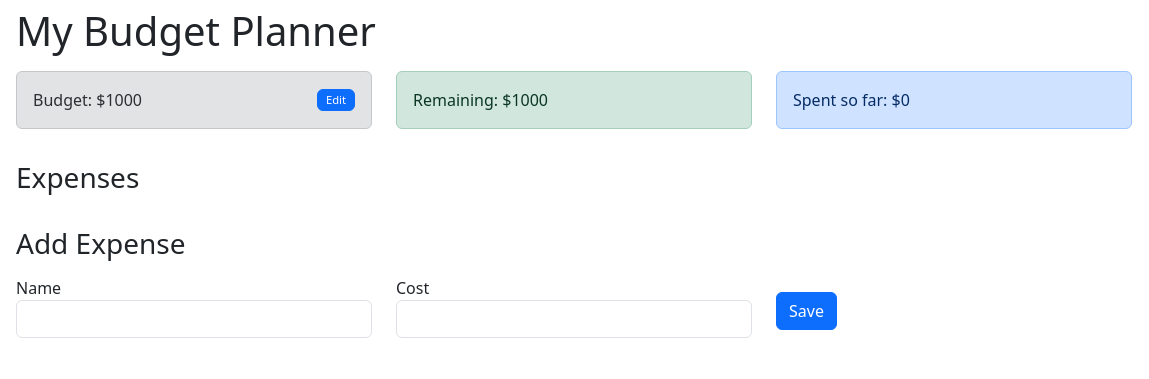
Test: Budget Button › Budget Button Edit
Click the button "Edit": click(336, 100) [317,89,355,111]
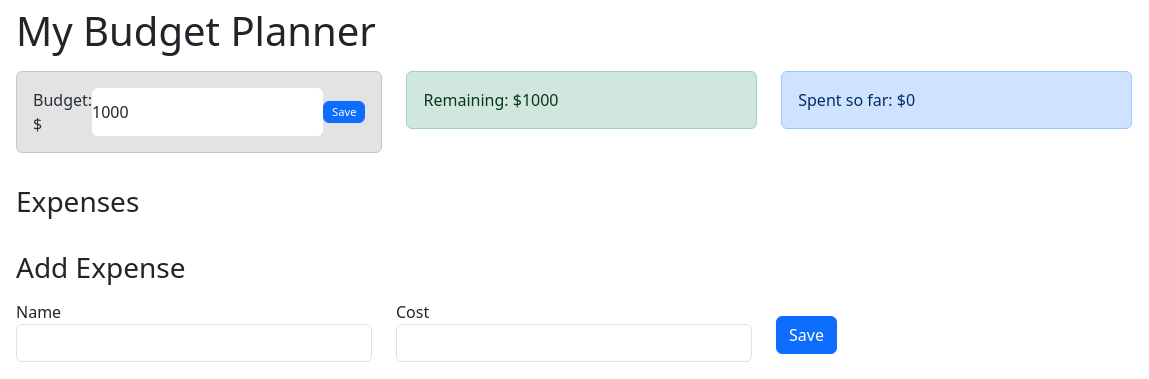
Replace the text in the number field with "500": (208, 112) [92,88,323,136]
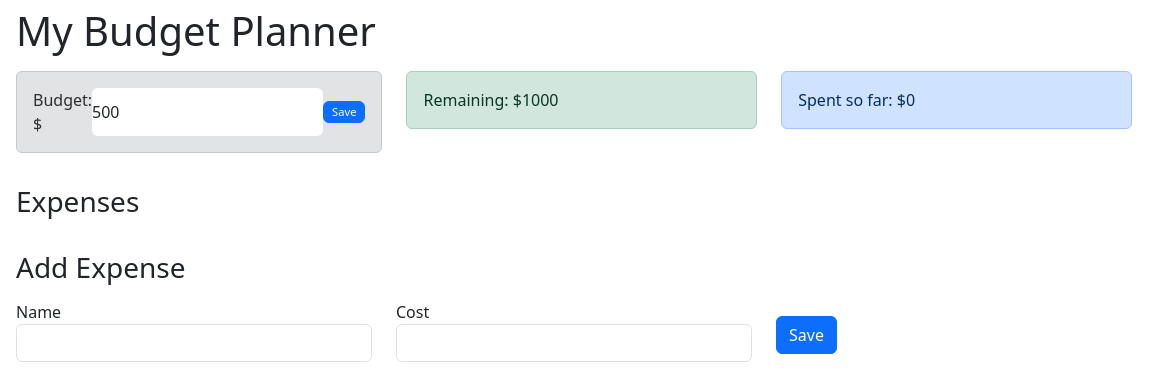
Click the button "Save" in the row of "Budget: $": click(344, 112) [323,101,366,123]
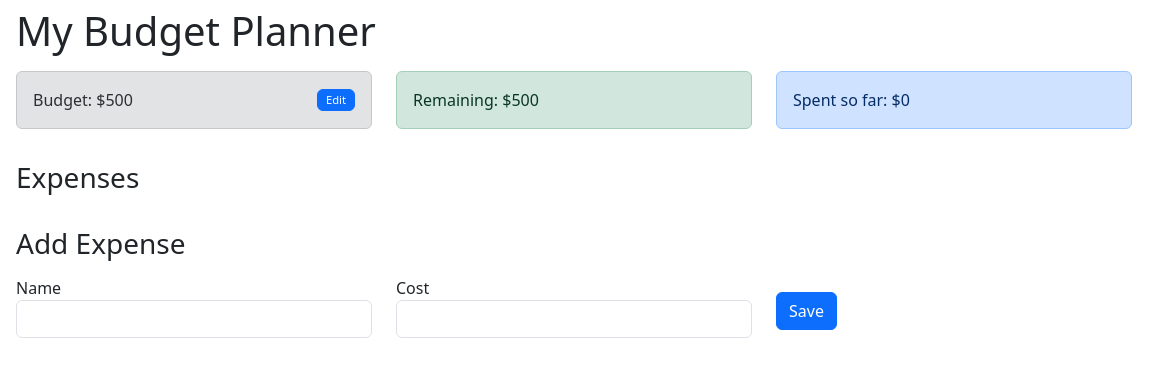
Now the text "Budget: $500" is shown, box [33,88,133,112]
